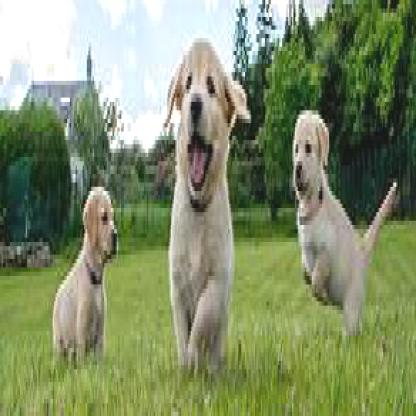dog: (164, 38, 252, 374), (292, 110, 398, 340), (53, 186, 118, 374)
